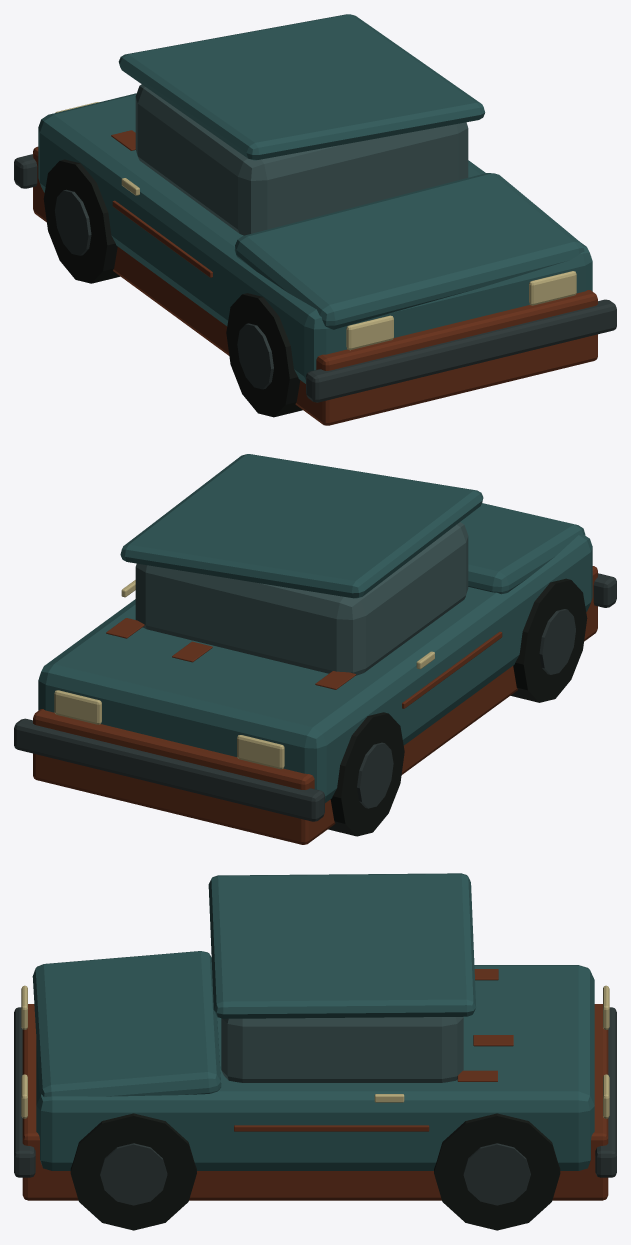
Rendered from wreck.glb.
The picture shows the model from 3 angles, top to bottom: view 1: azimuth 30°, elevation 25°; view 2: azimuth 150°, elevation 25°; view 3: azimuth 270°, elevation 25°; orthographic projection.
Parts seen in each view (by area): view 1: wreck; view 2: wreck; view 3: wreck.
Part boxes in pixels (x1,y1,x2,y2): wreck: (14, 14, 616, 425); wreck: (14, 454, 616, 844); wreck: (14, 873, 616, 1230).
Bounding box in the file's own units: 2.61 × 1.88 × 4.48.
